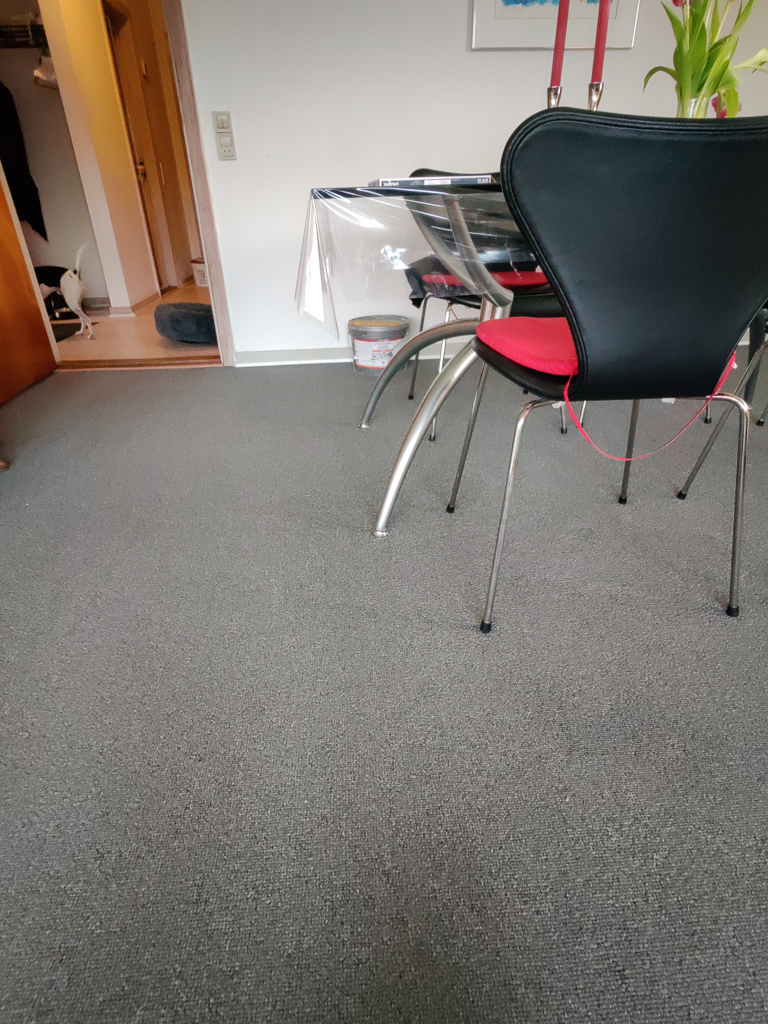Dog: (25, 241, 98, 341)
